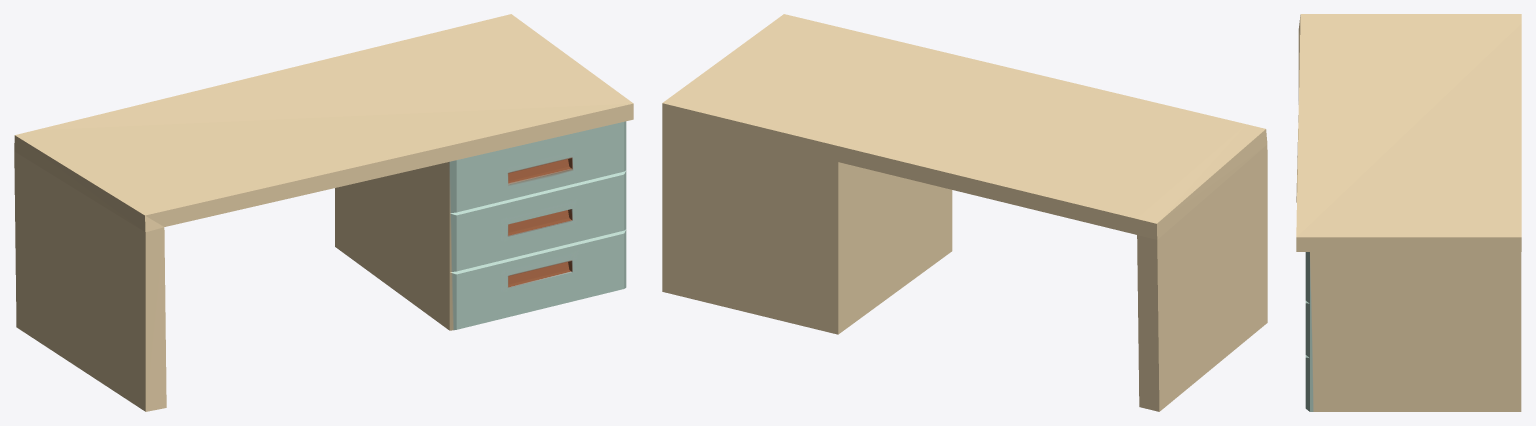
The model's file is Scrivania_lineare_con_texture.fbx.
3 renders of one model, left to right at view 1: azimuth 30°, elevation 25°; view 2: azimuth 150°, elevation 25°; view 3: azimuth 270°, elevation 25°, orthographic. The views are drawn at different scales.
Visible parts, largest first — view 1: pCube3; view 2: pCube3; view 3: pCube3.
Part boxes in pixels (x1,y1,x2,y2): pCube3: (14, 14, 633, 411); pCube3: (662, 14, 1267, 411); pCube3: (1296, 14, 1521, 411).
Bounding box in the file's own units: 7.17 × 2.69 × 3.05.
